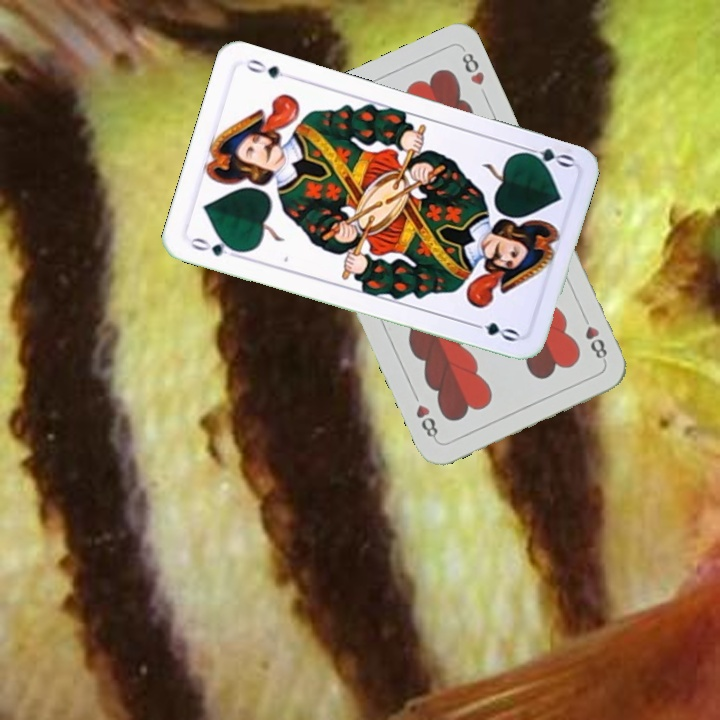GO: (516, 141, 576, 170), (186, 233, 244, 262)
H8: (577, 309, 610, 365)
